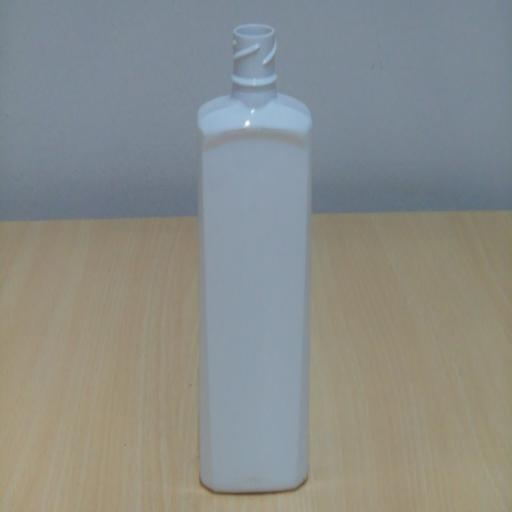Good: (186, 14, 323, 509)
